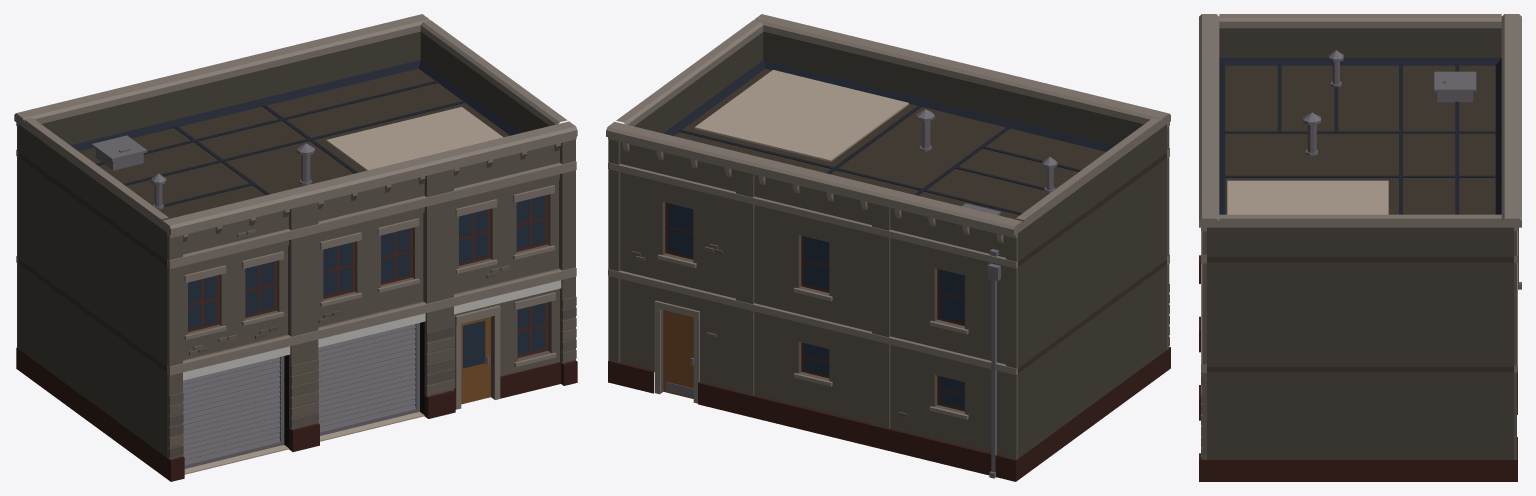
File: auto-repair-garage-b91464.glb
3 renders of one model, left to right at view 1: azimuth 30°, elevation 25°; view 2: azimuth 150°, elevation 25°; view 3: azimuth 270°, elevation 25°, orthographic. The views are drawn at different scales.
Visible parts, largest first — view 1: garage-body, shutter-left-curtain, shutter-right-curtain; view 2: garage-body; view 3: garage-body.
Boxes of the visible parts, x1,y1,x2,y2 form: garage-body: (14, 14, 577, 481); shutter-left-curtain: (183, 357, 280, 468); shutter-right-curtain: (318, 324, 416, 435); garage-body: (606, 14, 1170, 481); garage-body: (1199, 14, 1521, 481).
Bounding box in the file's own units: 12 × 7.2 × 8.
